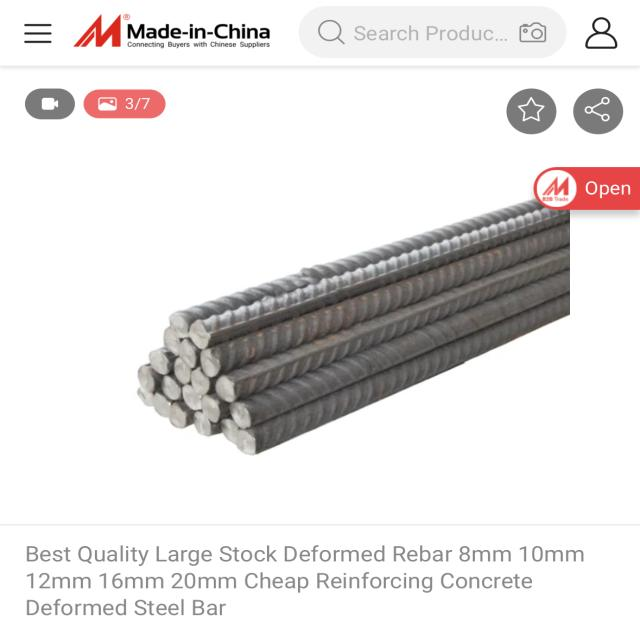Rebar: (190, 318, 213, 350), (199, 349, 226, 376), (235, 430, 260, 457), (137, 364, 162, 391), (220, 417, 243, 446), (201, 394, 224, 423), (166, 310, 191, 336), (217, 374, 238, 404), (192, 412, 217, 437), (169, 403, 192, 430), (191, 368, 214, 395), (161, 328, 184, 355), (151, 349, 172, 378), (183, 385, 205, 411), (233, 400, 252, 430), (162, 376, 186, 399), (182, 340, 202, 367), (175, 358, 193, 383), (154, 393, 172, 417), (139, 388, 153, 409)
